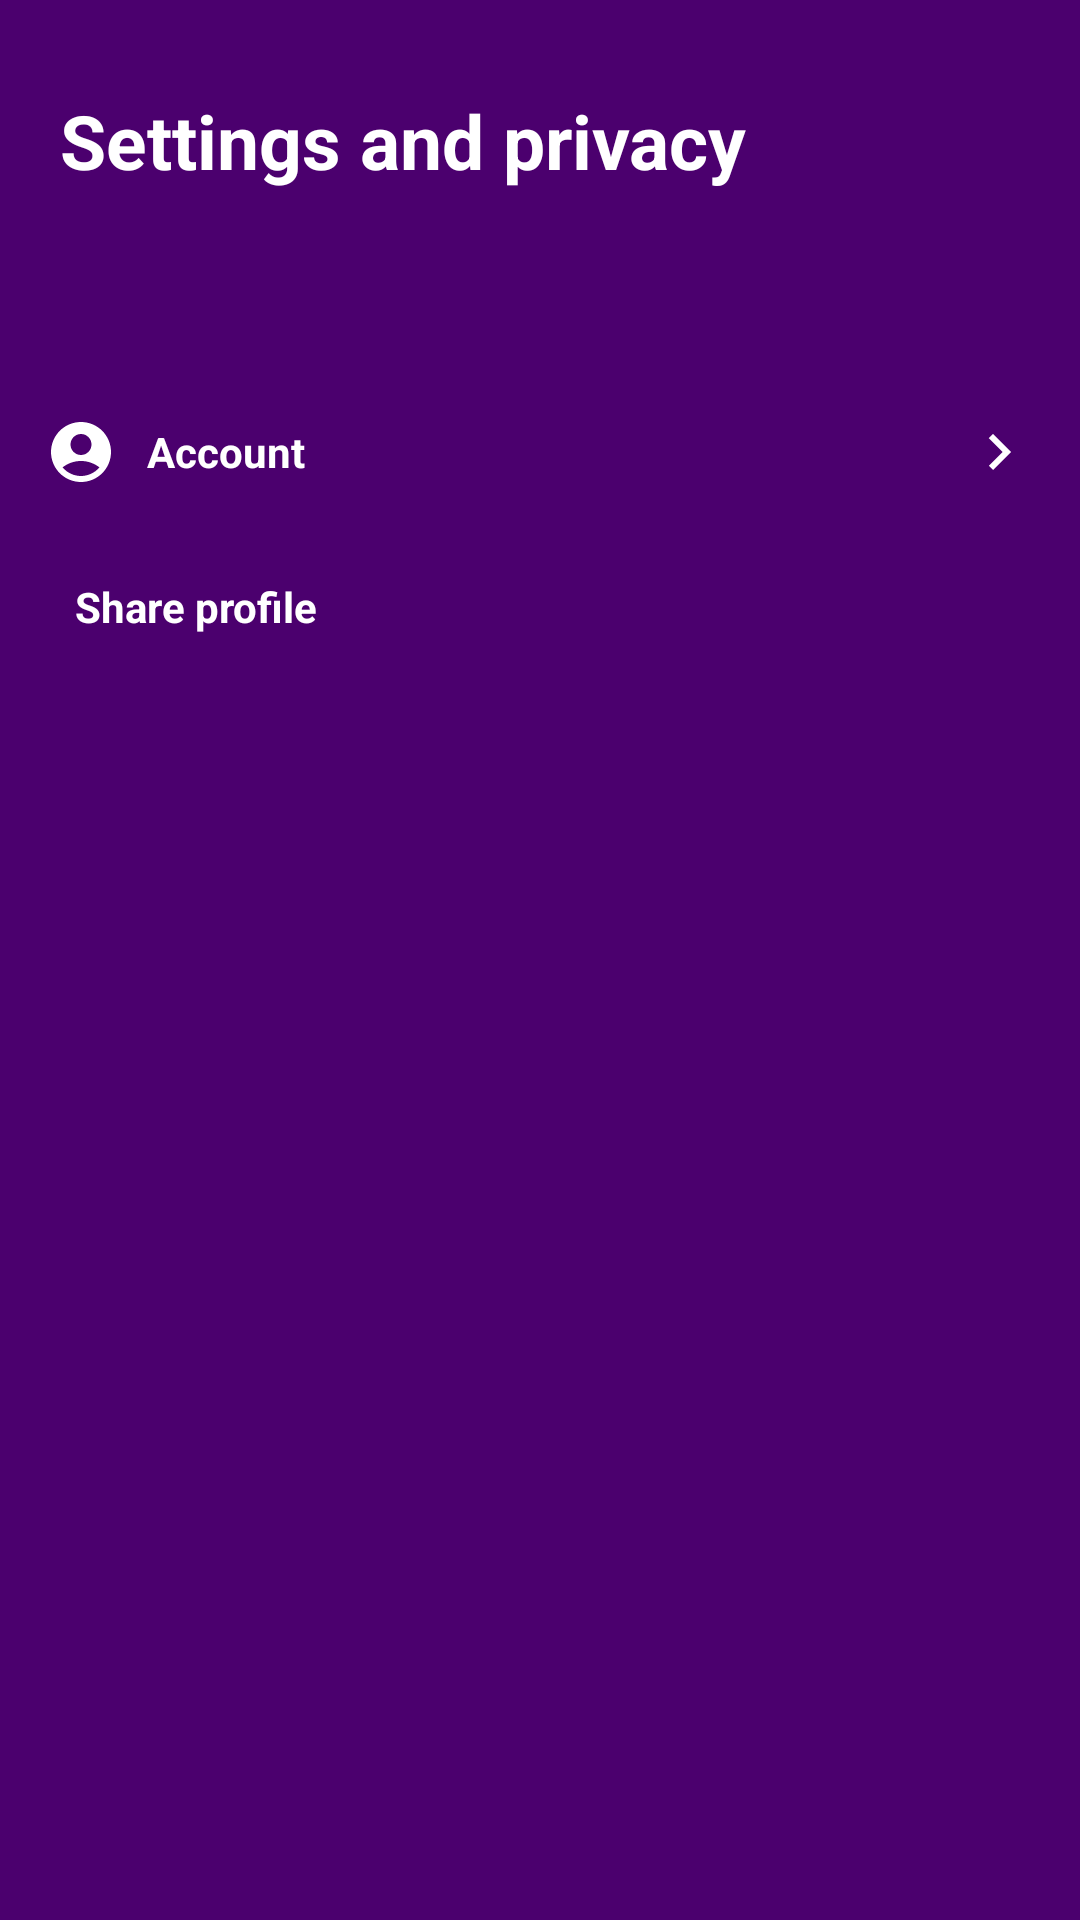

Locate icon controls on the screen. Image size 1080px x 1920px, boxes as (left=x1, top=y1, right=x2, bottom=y2).
keyboard arrow right: (left=989, top=434, right=1011, bottom=470)
